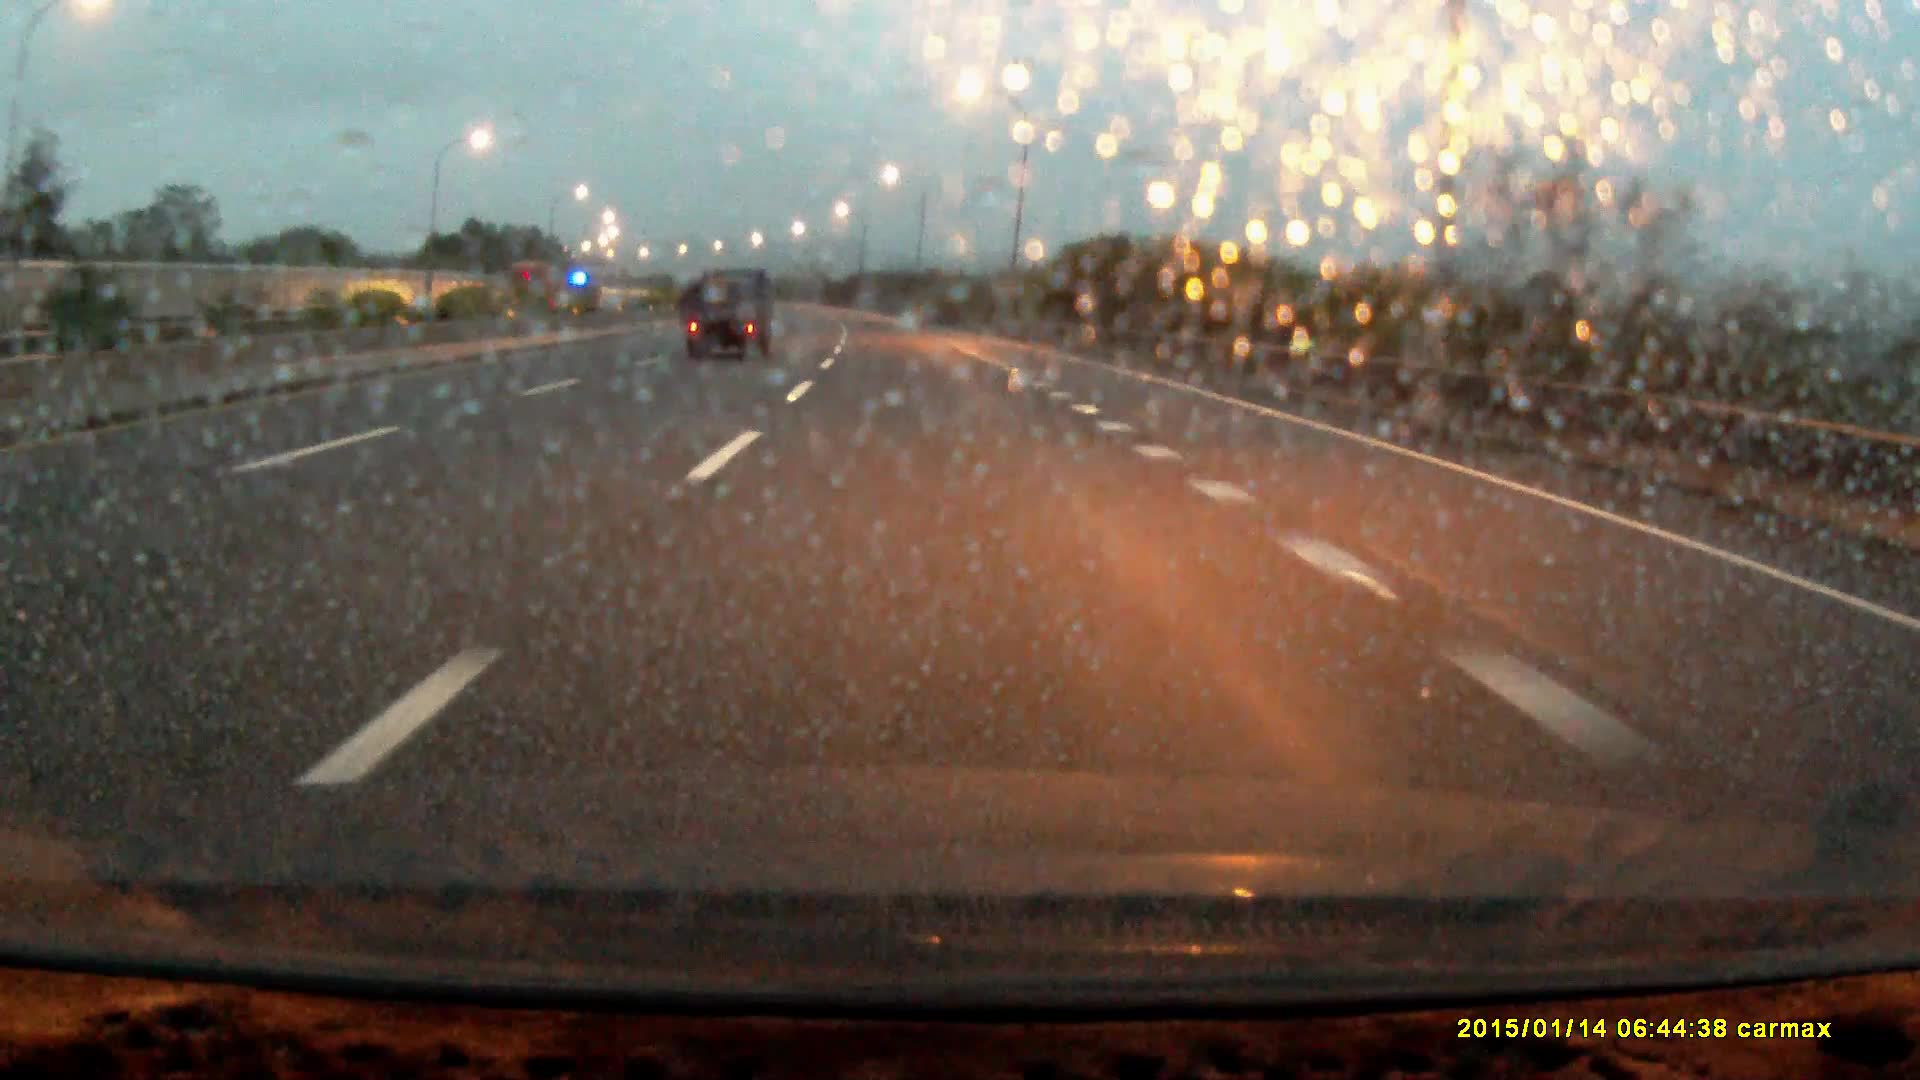vehicle: (688, 265, 771, 361), (506, 262, 563, 309)
